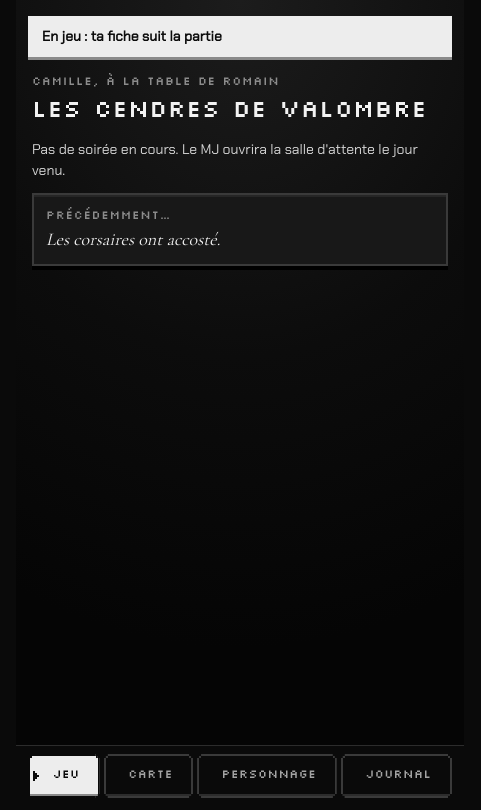
Scenario: PlayerHomePage › goes through a new level: the hit points, die or average, then the new card
Click the button "Personnage".
click(267, 776)  # box [197, 754, 337, 798]
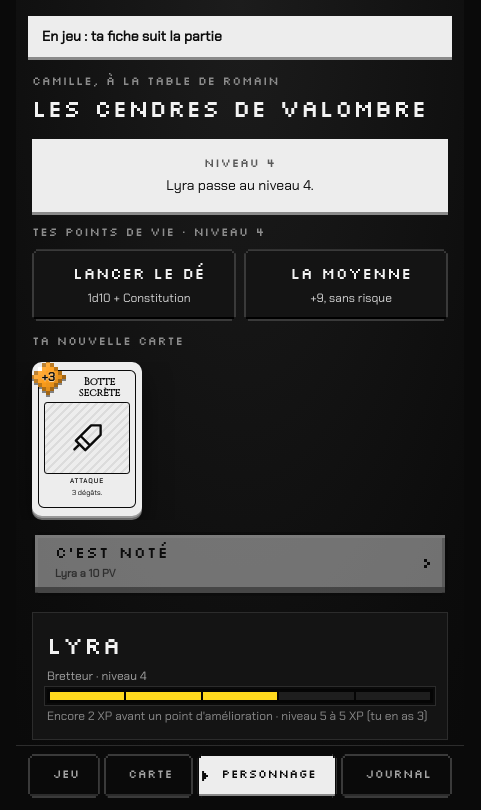
Expected: the text "Lyra passe au niveau 4." is shown, [166, 175, 314, 196]
Expected: the text "Botte secrète" is shown, [79, 375, 120, 400]
Expected: the button "C'est noté Lyra a 10 PV ›" is disabled, [32, 532, 448, 596]
Click the button "La moyenne +9, sans risque".
click(346, 285)  # box [244, 249, 448, 321]
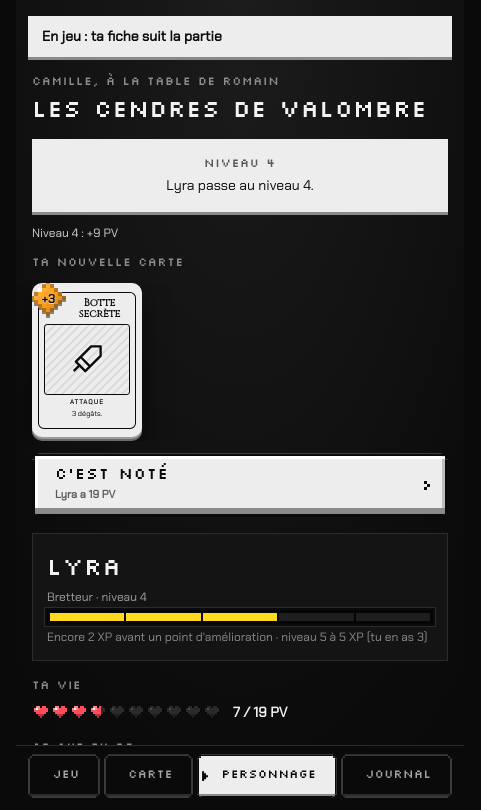
Expected: the list item "Niveau 4 : +9 PV" is shown, [32, 225, 118, 241]
Click the button "C'est noté Lyra a 19 PV ›".
click(112, 473)  # box [32, 453, 448, 517]
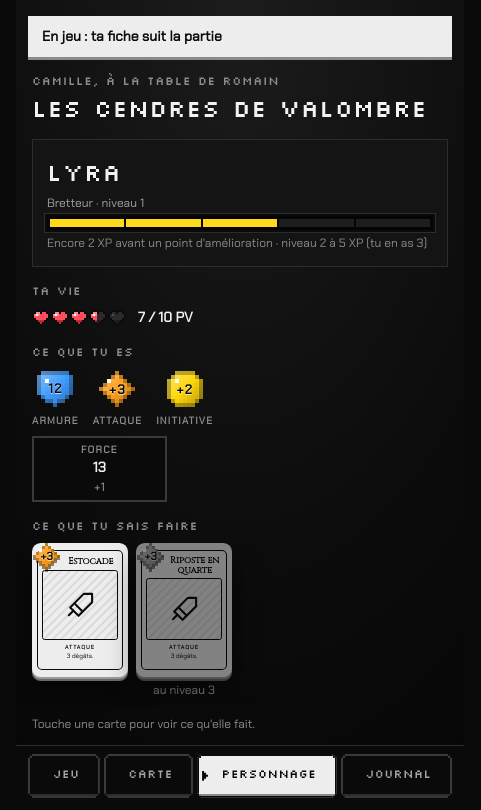
Expected: the text "Botte secrète" is gone
